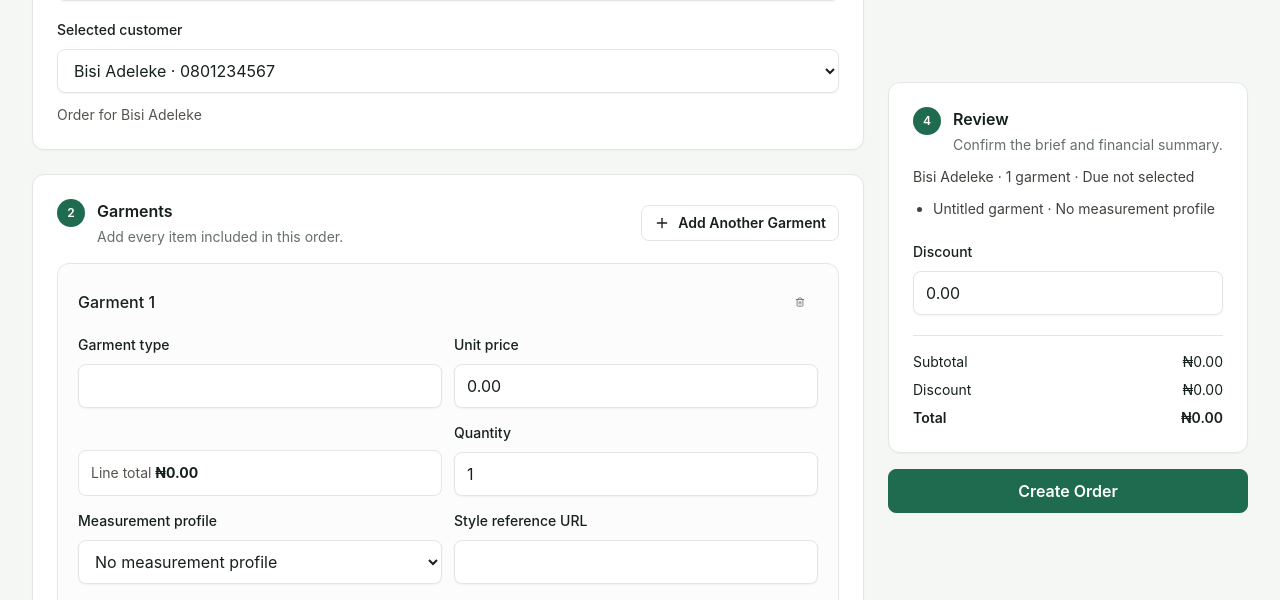
Test: discount updates total and invalid discount is rejected
The width and height of the screenshot is (1280, 600).
(page scrolled)
Type "Agbada" into the field labelled "Garment type" at (260, 386), box [78, 364, 442, 408]
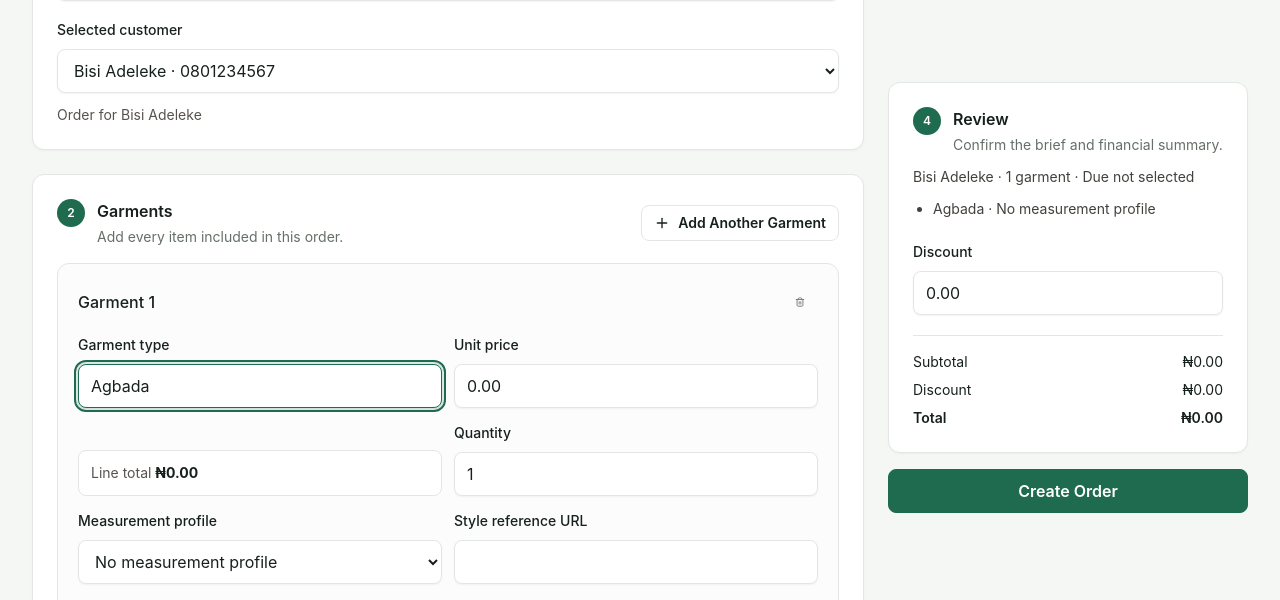
Replace the text in the number field named "Unit price garment 1" with "100" at (636, 386), box [454, 364, 818, 408]
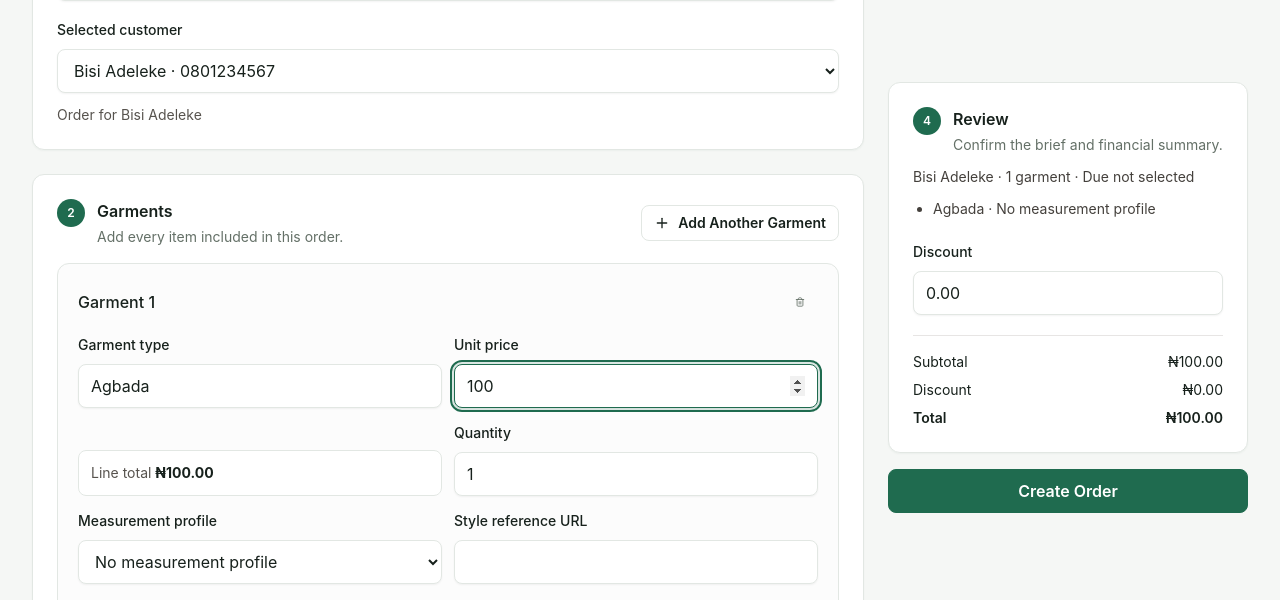
Replace the text in the number field labelled "Discount" with "101" at (1068, 292), box [913, 270, 1223, 314]
(page scrolled)
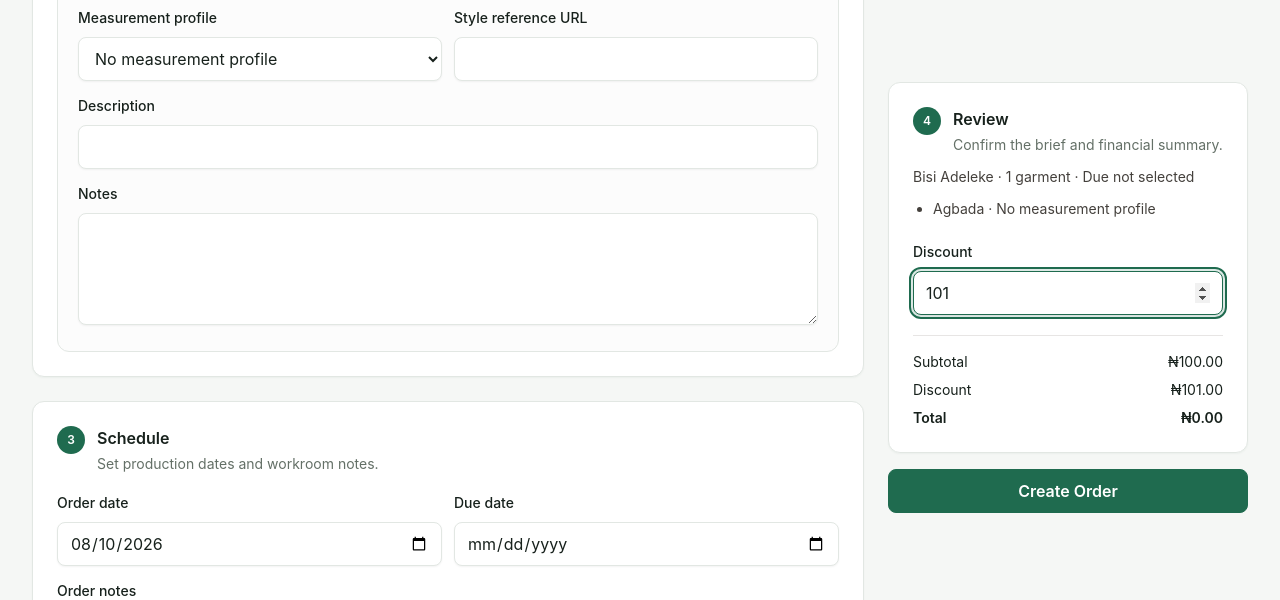
Type "2026-08-20" into the date field labelled "Due date" at (646, 544), box [454, 522, 839, 566]
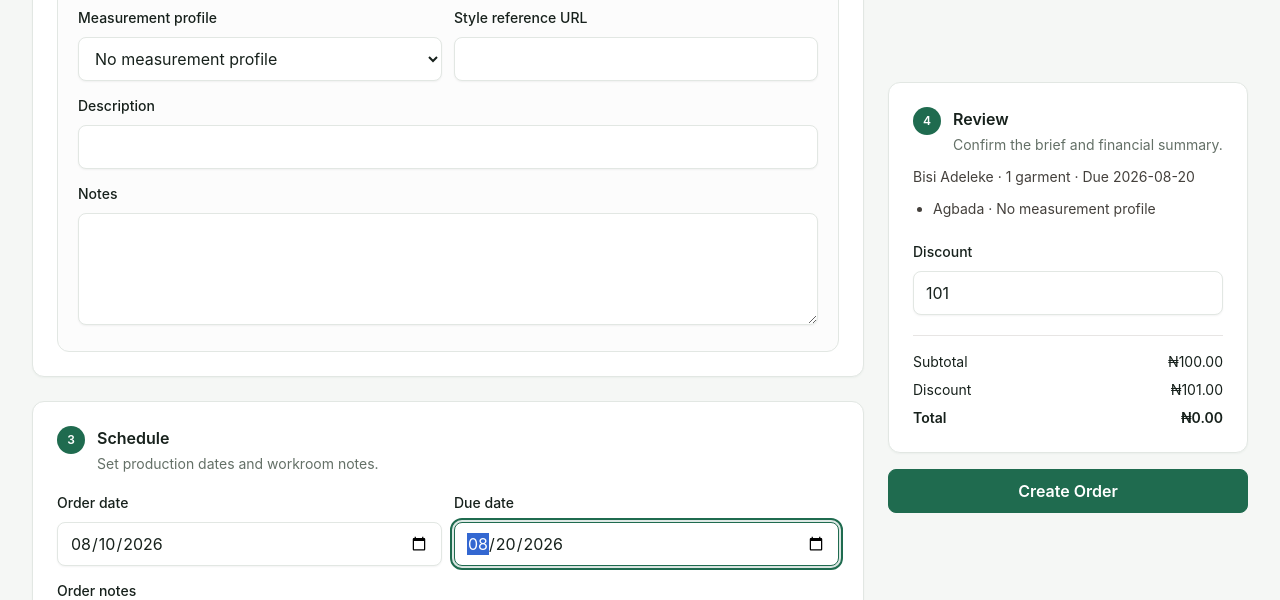
Click the button "Create Order" at (1068, 490), box [888, 468, 1248, 512]
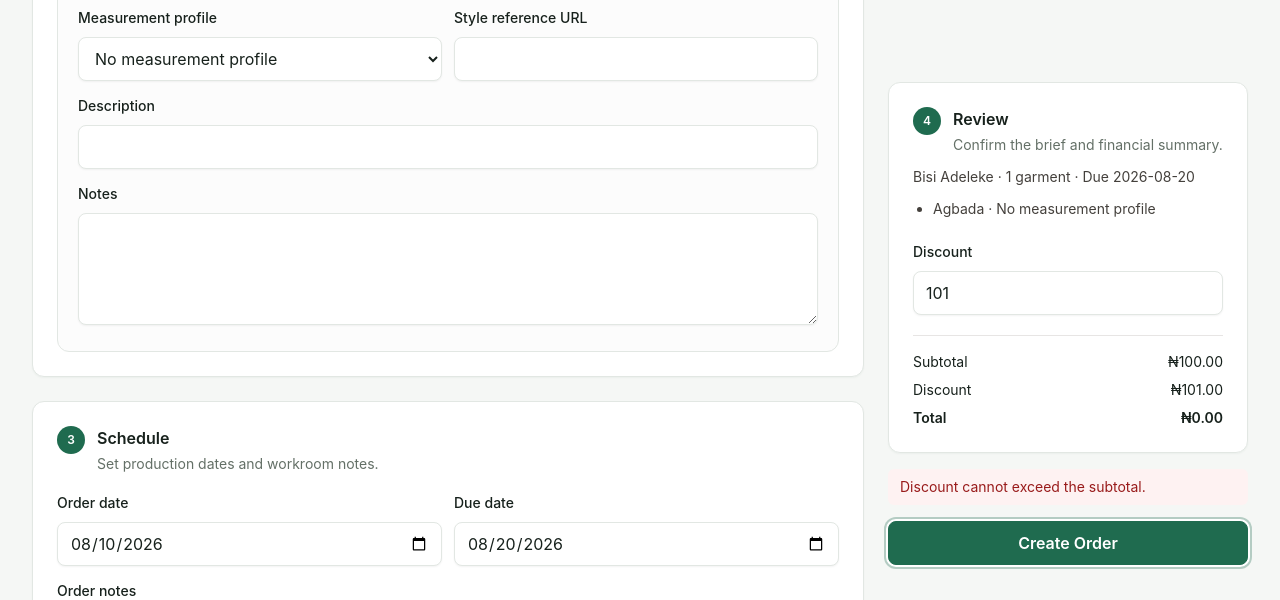
Result: the text "Discount cannot exceed the subtotal." is shown at [888, 468, 1248, 504]
